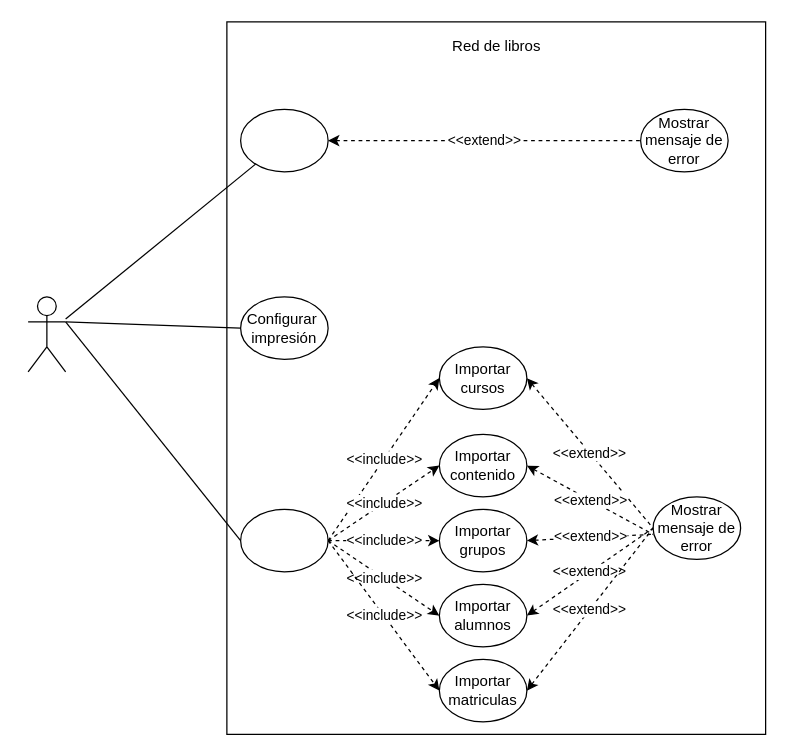
This 788x756 diagram has some shape labels left out. The shapes that lost their labels are listed below. From the top down, each one's centre as x and y in pixels, then its label:
point (283, 140): Configurar conexión
point (46, 334): Usuario
point (283, 540): Importar datos
